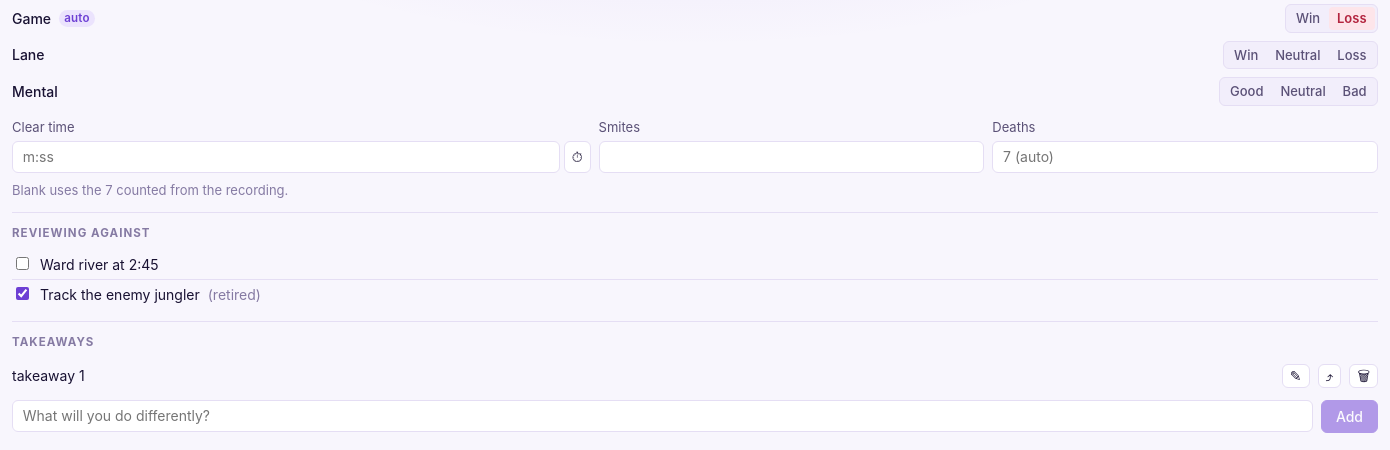
takeaways › promotes one and then shows it as promoted
Click the button named "Promote to objective" at (1329,376), box [1318,364,1341,388]
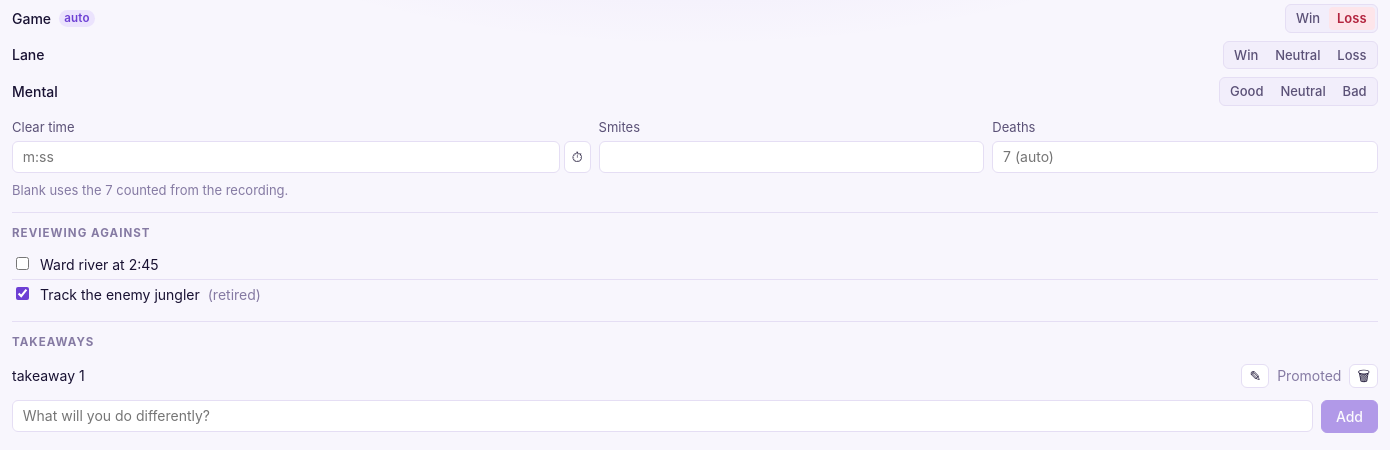
Expected: the list with class "review-takeaways" shows "Promoted", [1277,367,1341,384]
